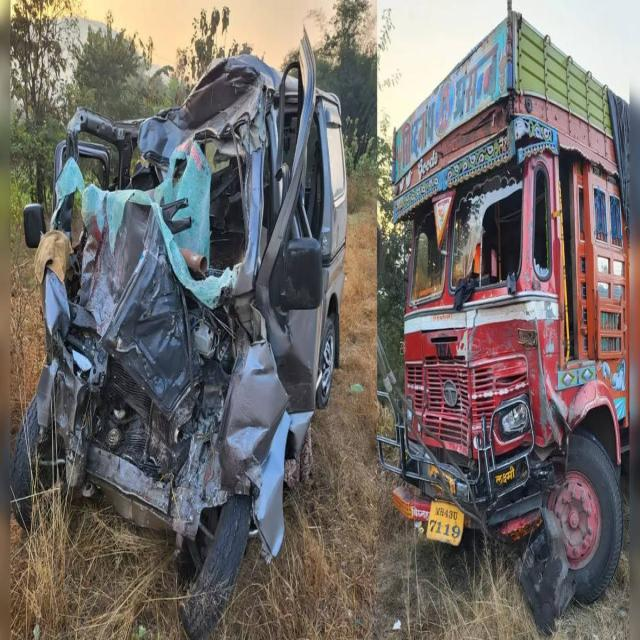accident: (11, 33, 346, 637), (379, 9, 630, 627)
